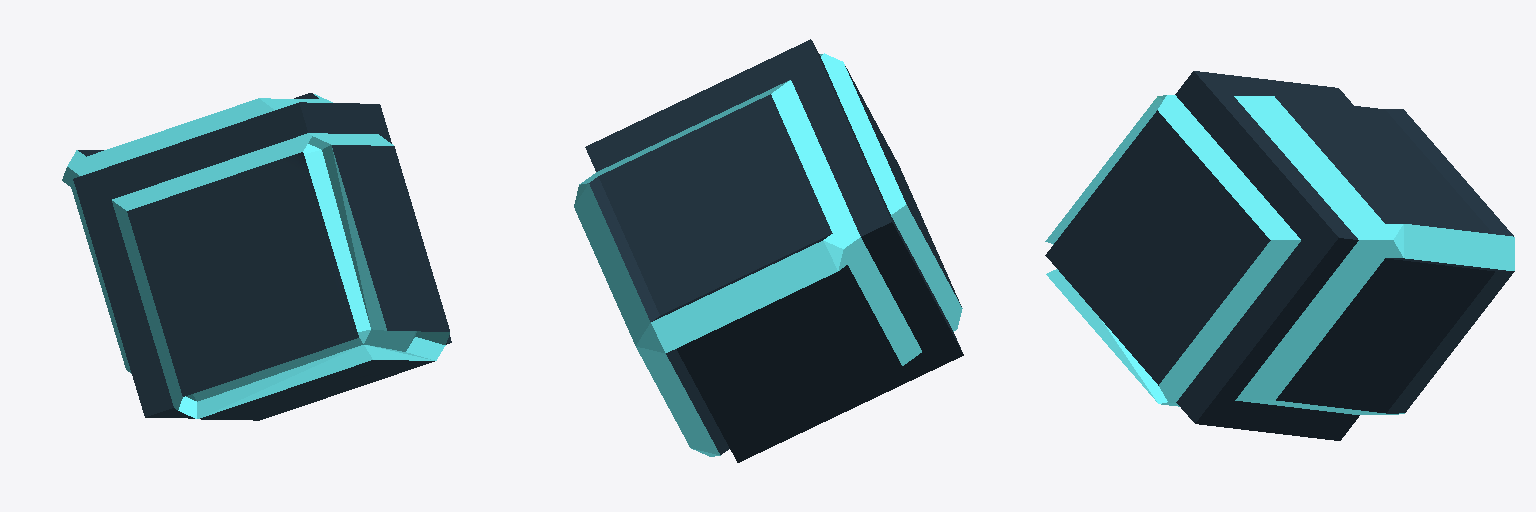
3 renders of one model, left to right at view 1: azimuth 30°, elevation 25°; view 2: azimuth 150°, elevation 25°; view 3: azimuth 270°, elevation 25°, orthographic.
Parts seen in each view (by area): view 1: Cube; view 2: Cube; view 3: Cube.
Part boxes in pixels (x1,y1,x2,y2): Cube: (62, 93, 451, 420); Cube: (574, 39, 963, 462); Cube: (1045, 71, 1514, 440).
Size of the model in its own units: 2.83 by 3.26 by 3.74.
1 materials, 1 textured.